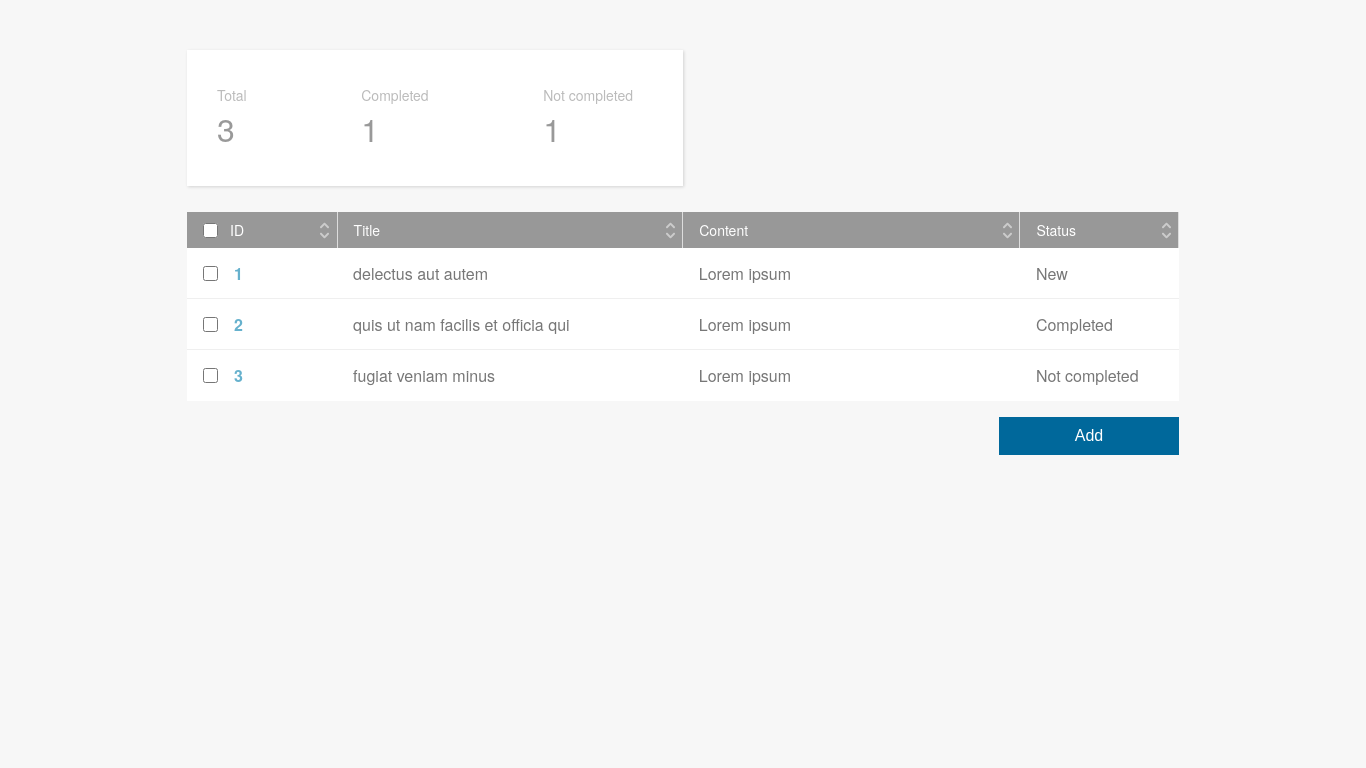
Notes handling › deletes second todo
Expected: the element with class "todos-table__button-add" is enabled
Step 1. Click the checkbox with id "check-2" → {"x": 211, "y": 325}, box 203,317 -> 218,332
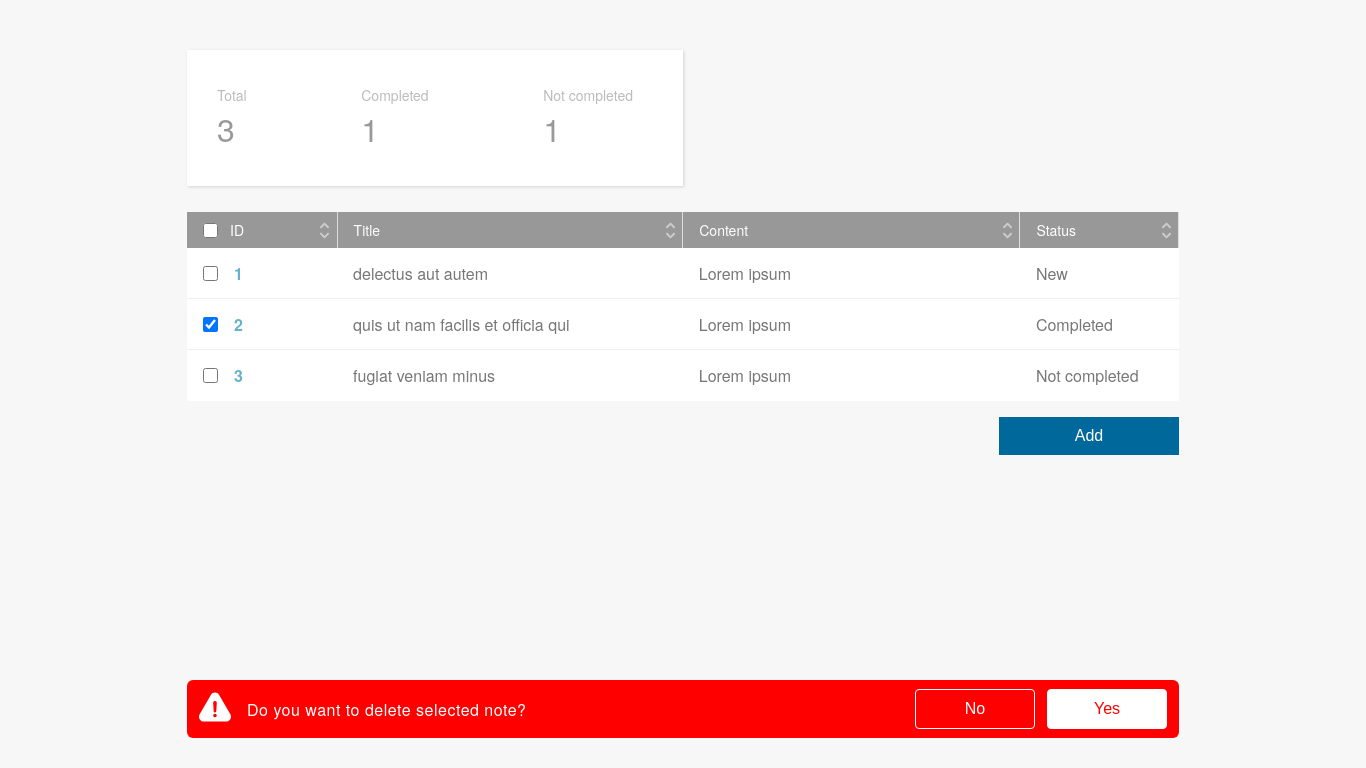
Step 2. Click the button "Yes" → {"x": 1107, "y": 709}, box 1047,689 -> 1167,729
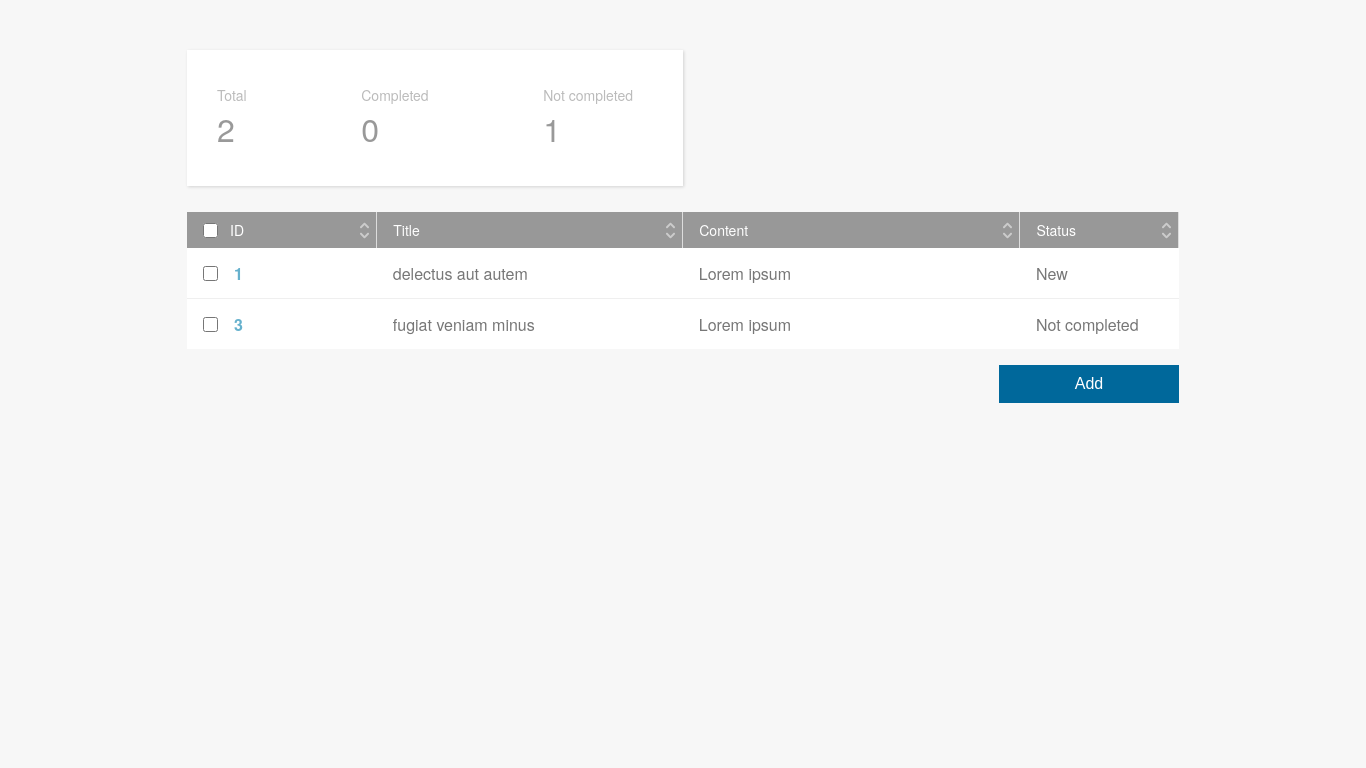
Result: the text "quis ut nam facilis et officia qui" is gone
